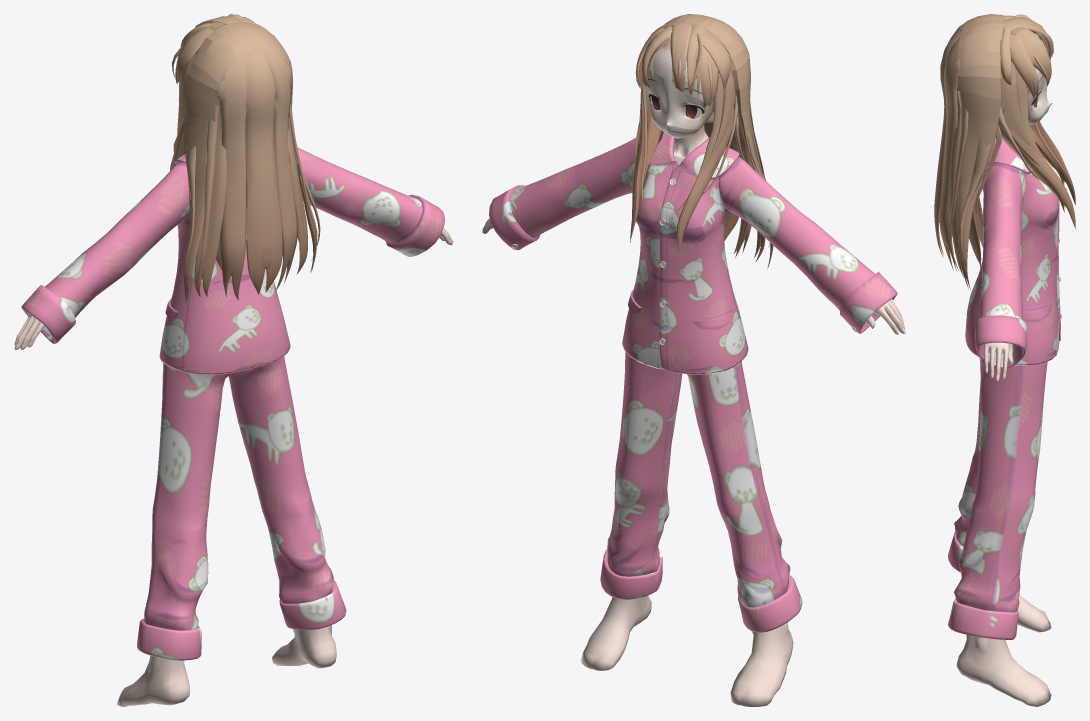
File: 07.pajama girl.glb
3 renders of one model, left to right at view 1: azimuth 30°, elevation 25°; view 2: azimuth 150°, elevation 25°; view 3: azimuth 270°, elevation 25°, orthographic. The views are drawn at different scales.
Visible parts, largest first — view 1: 75c58c8.obj, 775aea0.obj, 579eeb0.obj, 57763c8.obj, 579c530.obj, 770fe88.obj, 7736830.obj; view 2: 75c58c8.obj, 57763c8.obj, 579eeb0.obj, 579c530.obj, 7736830.obj, 770fe88.obj, 775aea0.obj, 5774008.obj, 76f38e0.obj, 76c1928.obj, 7751798.obj; view 3: 75c58c8.obj, 775aea0.obj, 579eeb0.obj, 57763c8.obj, 7736830.obj, 579c530.obj, 770fe88.obj, 57d9110.obj, 7751798.obj, 5774008.obj, 76f38e0.obj.
Boxes of the visible parts, x1,y1,x2,y2 form: 75c58c8.obj: [137, 356, 346, 660]; 775aea0.obj: [183, 22, 320, 302]; 579eeb0.obj: [21, 147, 444, 343]; 57763c8.obj: [159, 215, 290, 374]; 579c530.obj: [116, 625, 336, 706]; 770fe88.obj: [172, 14, 269, 84]; 7736830.obj: [170, 50, 197, 170]; 75c58c8.obj: [600, 352, 802, 632]; 57763c8.obj: [622, 162, 748, 374]; 579eeb0.obj: [489, 138, 897, 333]; 579c530.obj: [580, 595, 793, 706]; 7736830.obj: [630, 70, 738, 254]; 770fe88.obj: [635, 21, 730, 107]; 775aea0.obj: [664, 14, 773, 268]; 5774008.obj: [511, 132, 856, 344]; 76f38e0.obj: [646, 70, 708, 129]; 76c1928.obj: [648, 42, 717, 128]; 7751798.obj: [704, 101, 752, 258]; 75c58c8.obj: [948, 357, 1047, 639]; 775aea0.obj: [934, 14, 1006, 290]; 579eeb0.obj: [975, 163, 1027, 367]; 57763c8.obj: [965, 163, 1060, 365]; 7736830.obj: [998, 61, 1075, 229]; 579c530.obj: [956, 594, 1051, 706]; 770fe88.obj: [1000, 14, 1054, 99]; 57d9110.obj: [984, 342, 1013, 379]; 7751798.obj: [969, 108, 1004, 269]; 5774008.obj: [989, 139, 1061, 318]; 76f38e0.obj: [1028, 72, 1047, 119].
Size of the model in its own units: 27.53 by 40.37 by 8.05.
4 materials, 4 textured.
